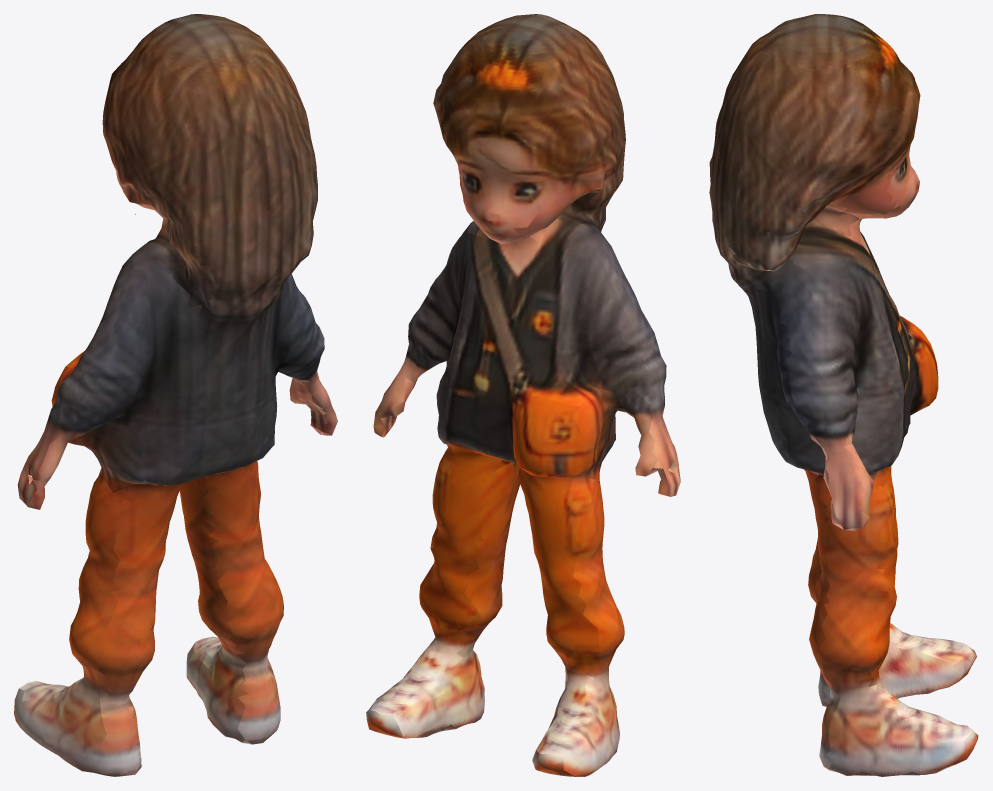
The model's file is halloween-nurse-patch-sharp.glb.
3 renders of one model, left to right at view 1: azimuth 30°, elevation 25°; view 2: azimuth 150°, elevation 25°; view 3: azimuth 270°, elevation 25°, orthographic. The views are drawn at different scales.
Visible parts, largest first — view 1: world; view 2: world; view 3: world.
Part boxes in pixels (left/top/right/bottom): world: left=14, top=14, right=337, bottom=776; world: left=366, top=14, right=680, bottom=776; world: left=709, top=14, right=978, bottom=776.
Bounding box in the file's own units: 0.4177 × 0.9439 × 0.3211.
Materials: 1 (1 with a texture image).
